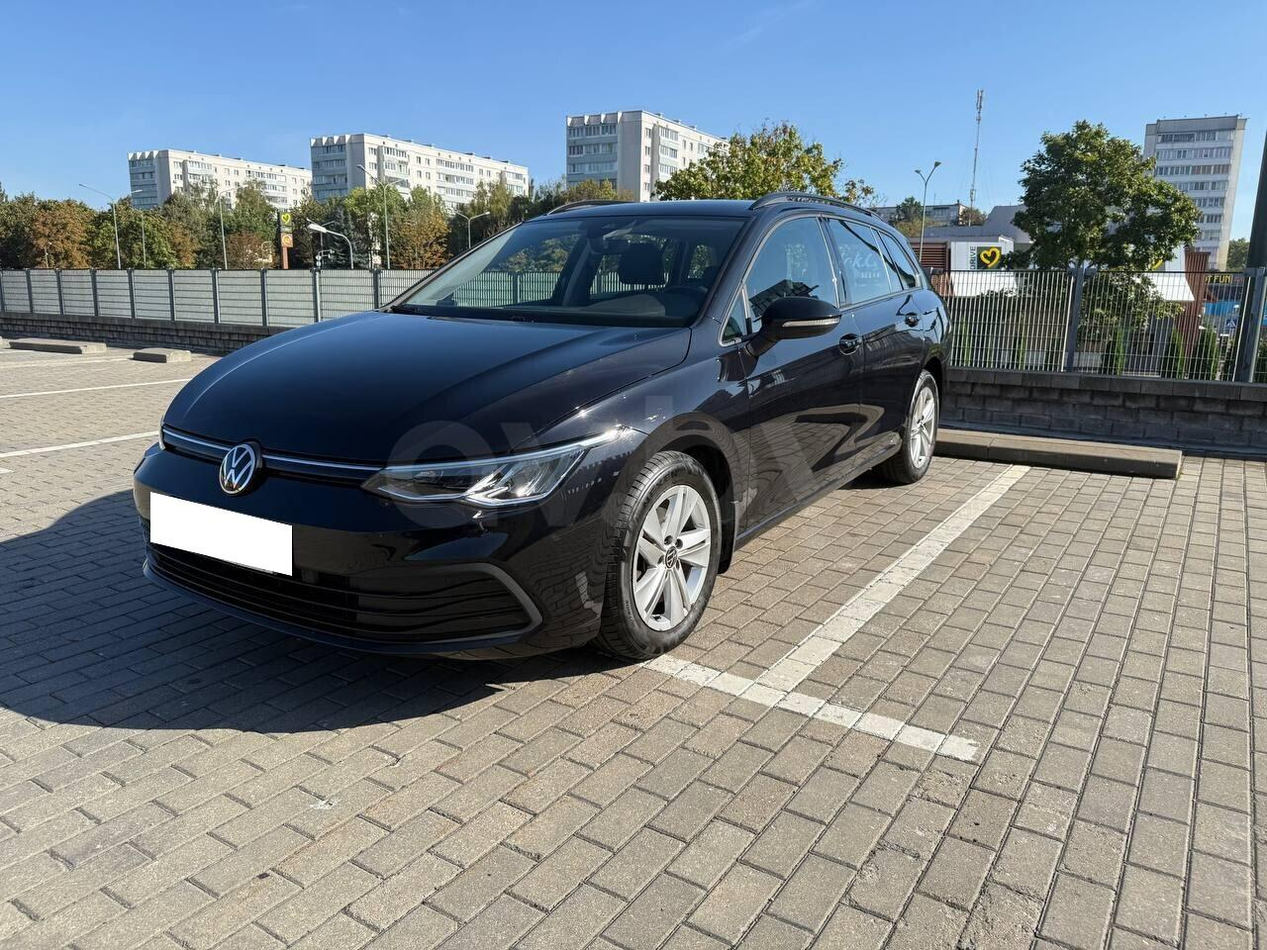Golf_2019: (130, 190, 950, 659)
